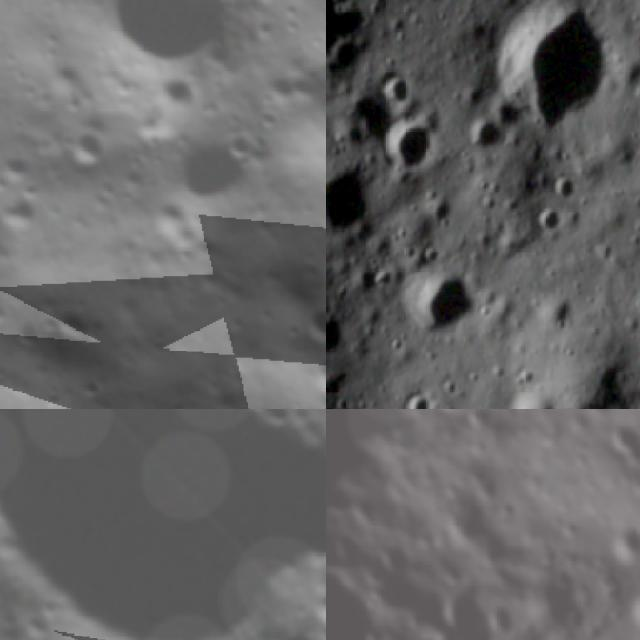crater: (0, 409, 326, 640), (55, 0, 263, 126), (213, 409, 326, 640), (491, 0, 622, 137), (237, 25, 326, 200), (148, 118, 256, 227), (406, 267, 482, 344), (383, 108, 451, 188), (326, 154, 380, 248), (284, 284, 326, 360), (373, 68, 422, 112), (601, 517, 640, 571), (469, 112, 506, 168), (300, 575, 326, 635), (507, 389, 570, 409), (398, 388, 444, 409), (481, 598, 515, 625), (279, 624, 326, 640), (413, 631, 446, 640)
